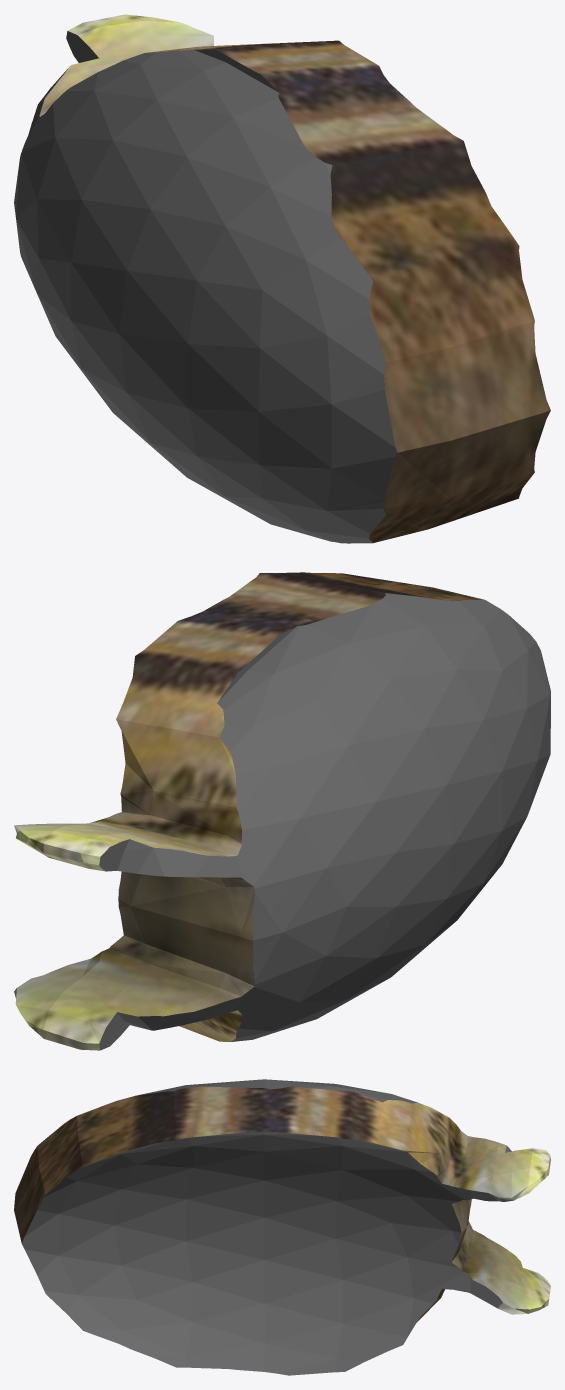
3 renders of one model, top to bottom at view 1: azimuth 30°, elevation 25°; view 2: azimuth 150°, elevation 25°; view 3: azimuth 270°, elevation 25°, orthographic. The views are drawn at different scales.
Visible parts, largest first — view 1: link_6_visual; view 2: link_6_visual; view 3: link_6_visual.
Part boxes in pixels (box(x1,y1,x2,y2)): link_6_visual: box(14, 14, 550, 543); link_6_visual: box(14, 572, 550, 1050); link_6_visual: box(14, 1079, 550, 1375).
Bounding box in the file's own units: 0.00152 × 0.00206 × 0.00381.
Materials: 1 (1 with a texture image).
